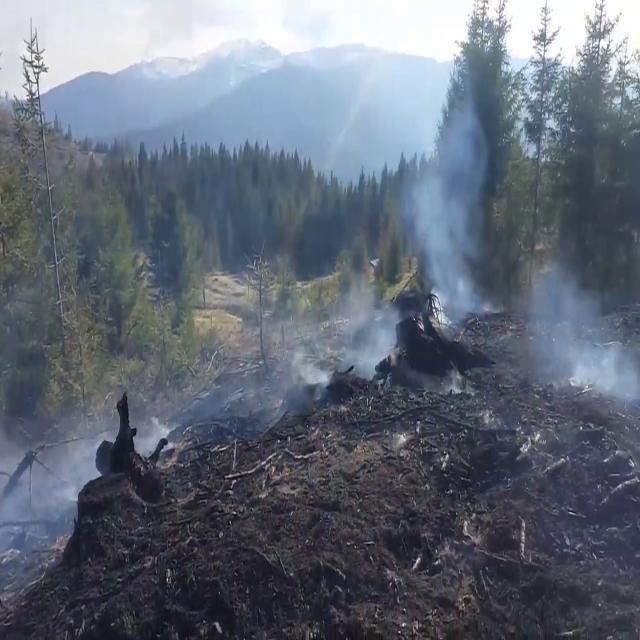Smoke: (400, 60, 498, 320), (518, 232, 640, 406)
